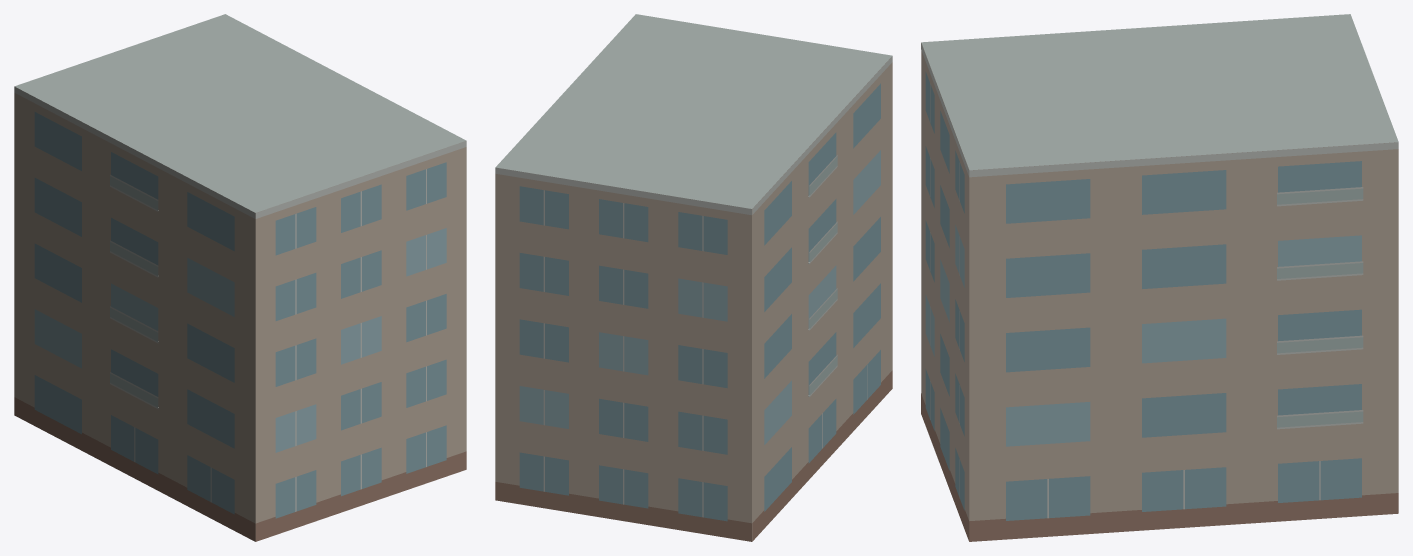
File: survey-upis-32995058.glb
3 renders of one model, left to right at view 1: azimuth 30°, elevation 25°; view 2: azimuth 150°, elevation 25°; view 3: azimuth 270°, elevation 25°, orthographic. The views are drawn at different scales.
Visible parts, largest first — view 1: survey-upis-32995058.tmp; view 2: survey-upis-32995058.tmp; view 3: survey-upis-32995058.tmp.
Part boxes in pixels (x1,y1,x2,y2): survey-upis-32995058.tmp: (14, 14, 466, 541); survey-upis-32995058.tmp: (495, 14, 892, 541); survey-upis-32995058.tmp: (921, 14, 1398, 541).
Bounding box in the file's own units: 11.74 × 13 × 15.16.
